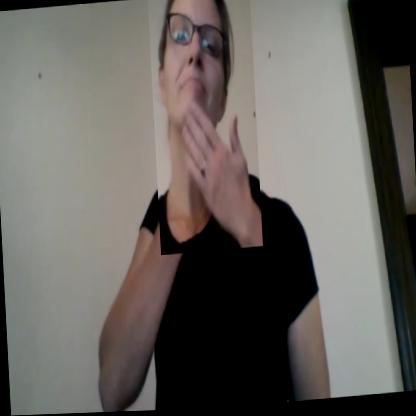ThankYou: (147, 0, 262, 256)
